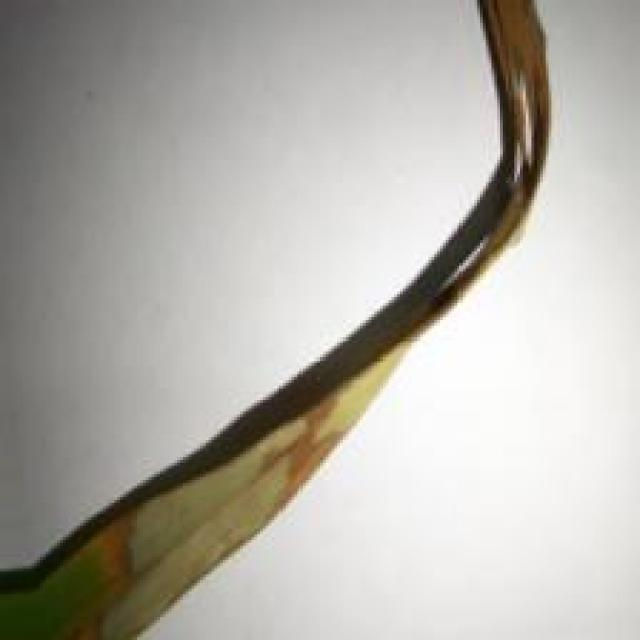Leaf_Scald: (0, 0, 550, 638)
